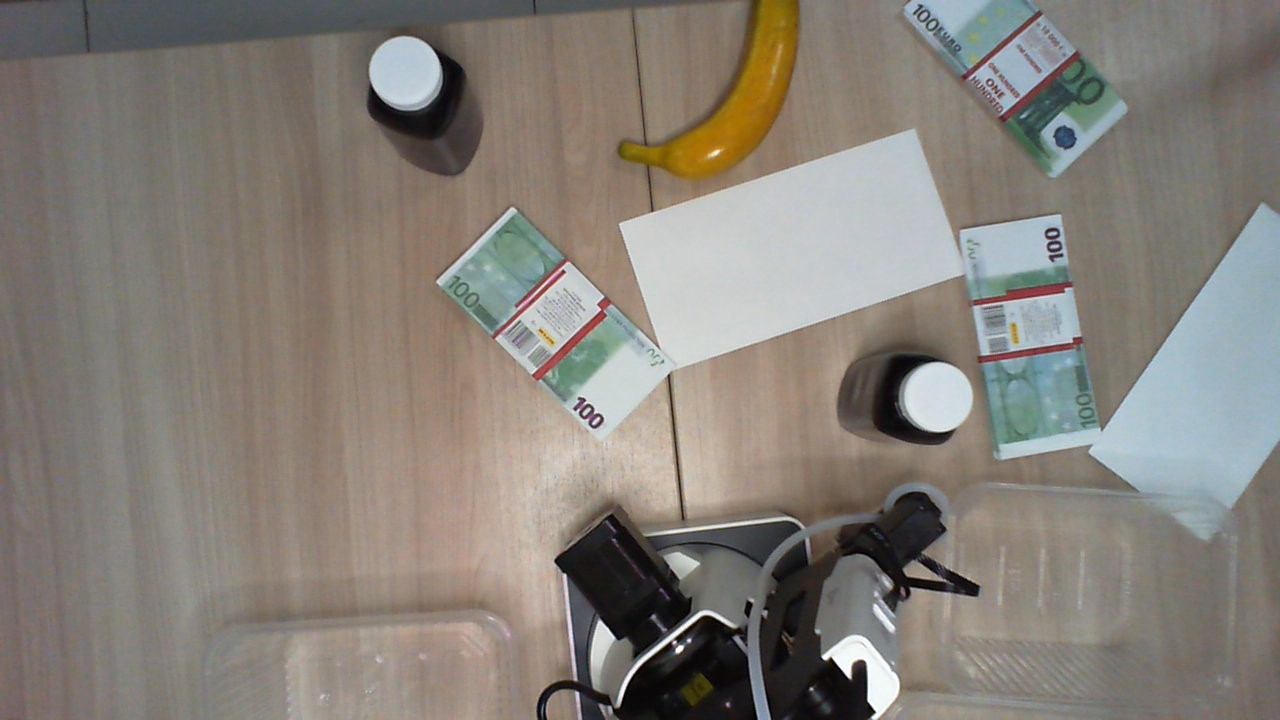banana: (618, 1, 802, 186)
bottle: (367, 35, 466, 135), (882, 351, 973, 440)
convert: (619, 128, 965, 370), (1089, 201, 1279, 543)
money: (435, 206, 675, 439), (902, 1, 1126, 181), (960, 213, 1102, 463)
